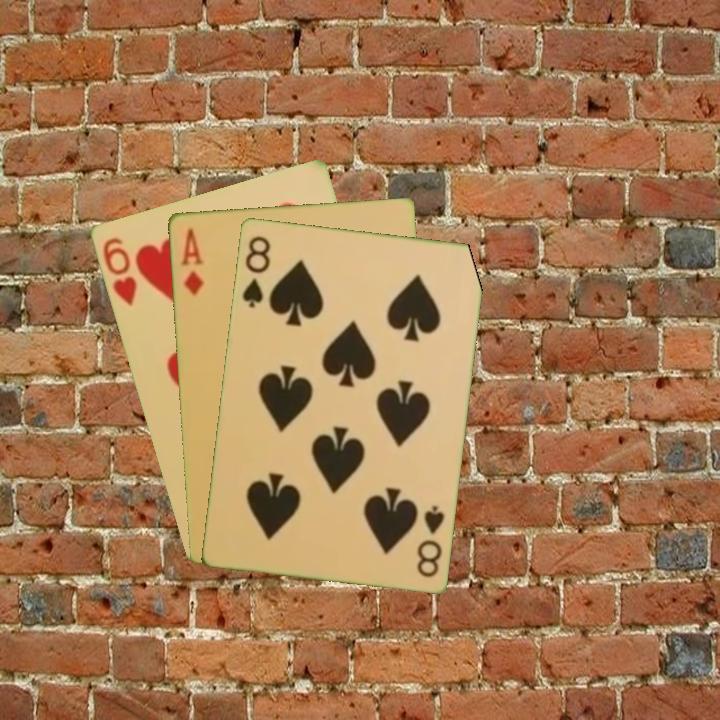6h: (99, 233, 140, 309)
8s: (238, 232, 273, 310), (413, 501, 447, 580)
Ad: (176, 224, 206, 299)
